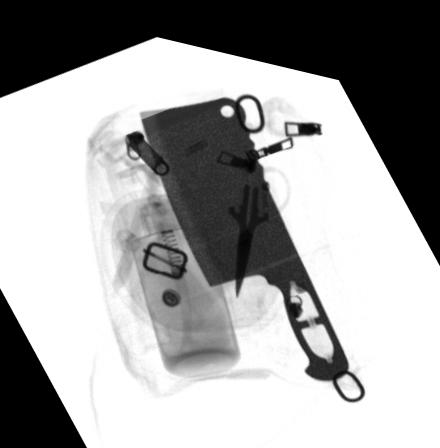Knife: (138, 86, 350, 364)
Scissors: (207, 143, 295, 286)
